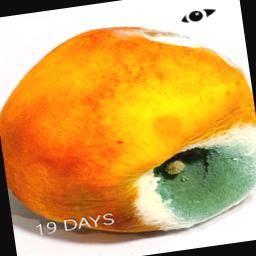Peach Rotten: (0, 7, 256, 253)
